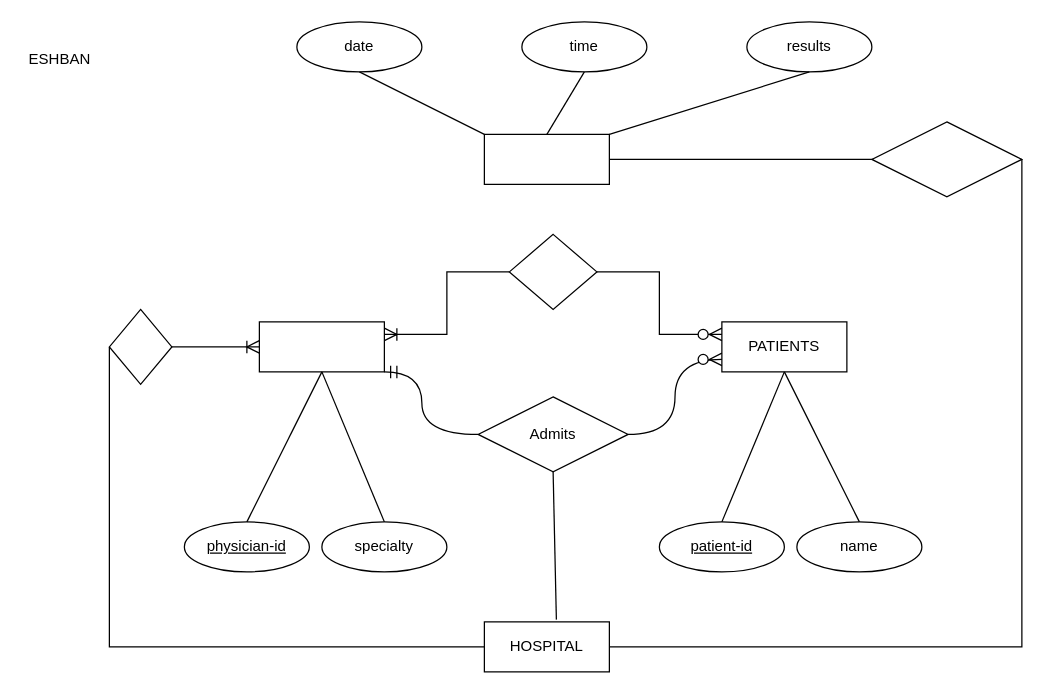
This 1045x694 diagram has some shape labels left out. The centre of each missing label's shape, as x and y in pixels:
Has: the point at 140,346
PHYSICIAN: the point at 321,346
Records: the point at 946,159
TREATMENT-DETAILS: the point at 546,158
Treats: the point at 552,271
